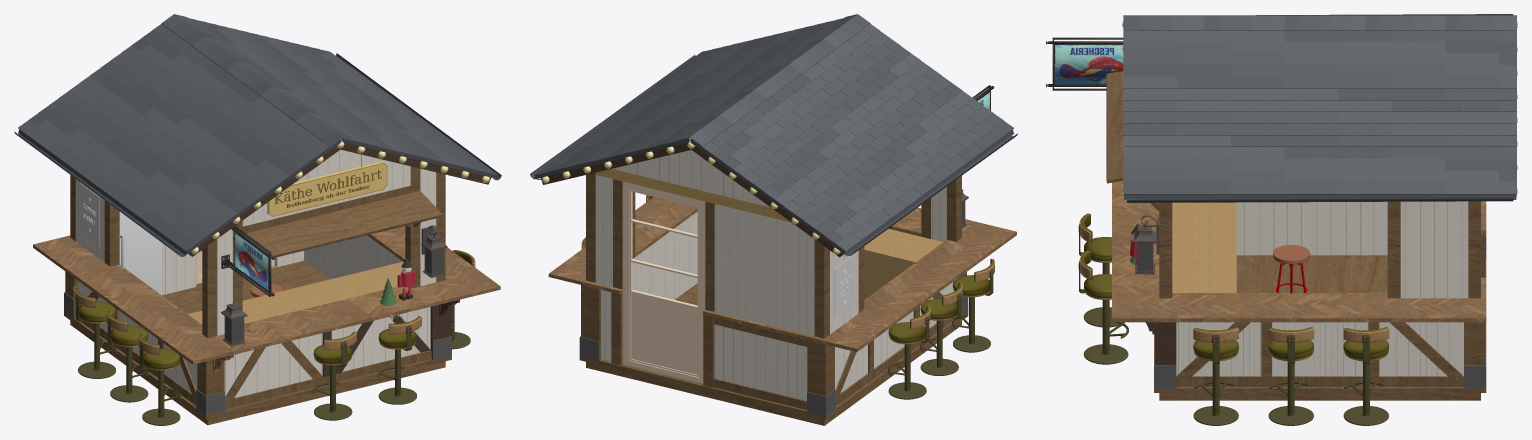
3 views of the same model, side by side, from view 1: azimuth 30°, elevation 25°; view 2: azimuth 150°, elevation 25°; view 3: azimuth 270°, elevation 25° (orthographic). The views are drawn at different scales.
Parts seen in each view (by area): view 1: Geom3D (×19), Geom3D_ (×11), Geom3D_Component#171 (×2), Geom3D_Vách treo đèn#3 (×2), Geom3D_Thanh dinh, Geom3D_Bo goc (×2), Geom3D_Component#6, Geom3D_Component#226, Geom3D_Component#183 (×2), Geom3D_Component#231, Geom3D_Thanh dinh#1; view 2: Geom3D (×13), Geom3D_ (×12), Geom3D_Vách treo đèn#1, Geom3D_Component#169, Geom3D_Component#171 (×3), Geom3D_Bo goc (×2), Geom3D_Component#7 (×2), Geom3D_Vách treo đèn#2, Geom3D_Thanh dinh#3 (×2), Geom3D_Thanh dinh#1, Geom3D_Vách treo đèn#3; view 3: Geom3D (×16), Geom3D_ (×8), Geom3D_Thanh dinh#1, Geom3D_Component#171 (×2), Geom3D_Bo goc (×2), Geom3D_Component#231, Geom3D_Component#223.
Part boxes in pixels (<box>): Geom3D (×19): <box>14,14,501,425</box>; Geom3D_ (×11): <box>64,140,490,425</box>; Geom3D_Component#171 (×2): <box>202,172,445,337</box>; Geom3D_Vách treo đèn#3 (×2): <box>217,168,436,335</box>; Geom3D_Thanh dinh: <box>225,350,431,409</box>; Geom3D_Bo goc (×2): <box>197,305,450,395</box>; Geom3D_Component#6: <box>242,186,410,233</box>; Geom3D_Component#226: <box>405,166,420,288</box>; Geom3D_Component#183 (×2): <box>225,341,323,401</box>; Geom3D_Component#231: <box>104,200,119,266</box>; Geom3D_Thanh dinh#1: <box>79,318,196,405</box>; Geom3D (×13): <box>530,14,1017,415</box>; Geom3D_ (×12): <box>540,140,968,425</box>; Geom3D_Vách treo đèn#1: <box>714,204,814,336</box>; Geom3D_Component#169: <box>624,183,703,383</box>; Geom3D_Component#171 (×3): <box>586,172,961,338</box>; Geom3D_Bo goc (×2): <box>581,285,834,396</box>; Geom3D_Component#7 (×2): <box>613,179,714,311</box>; Geom3D_Vách treo đèn#2: <box>595,175,612,286</box>; Geom3D_Thanh dinh#3 (×2): <box>713,317,807,409</box>; Geom3D_Thanh dinh#1: <box>835,318,953,406</box>; Geom3D_Vách treo đèn#3: <box>931,186,946,241</box>; Geom3D (×16): <box>1055,14,1516,425</box>; Geom3D_ (×8): <box>1106,71,1486,400</box>; Geom3D_Thanh dinh#1: <box>1176,376,1463,386</box>; Geom3D_Component#171 (×2): <box>1159,201,1480,298</box>; Geom3D_Bo goc (×2): <box>1155,322,1485,365</box>; Geom3D_Component#231: <box>1387,201,1400,298</box>; Geom3D_Component#223: <box>1390,322,1463,376</box>.
Size of the model in its own units: 4.25 by 3.26 by 4.4.
50 materials, 14 textured.
